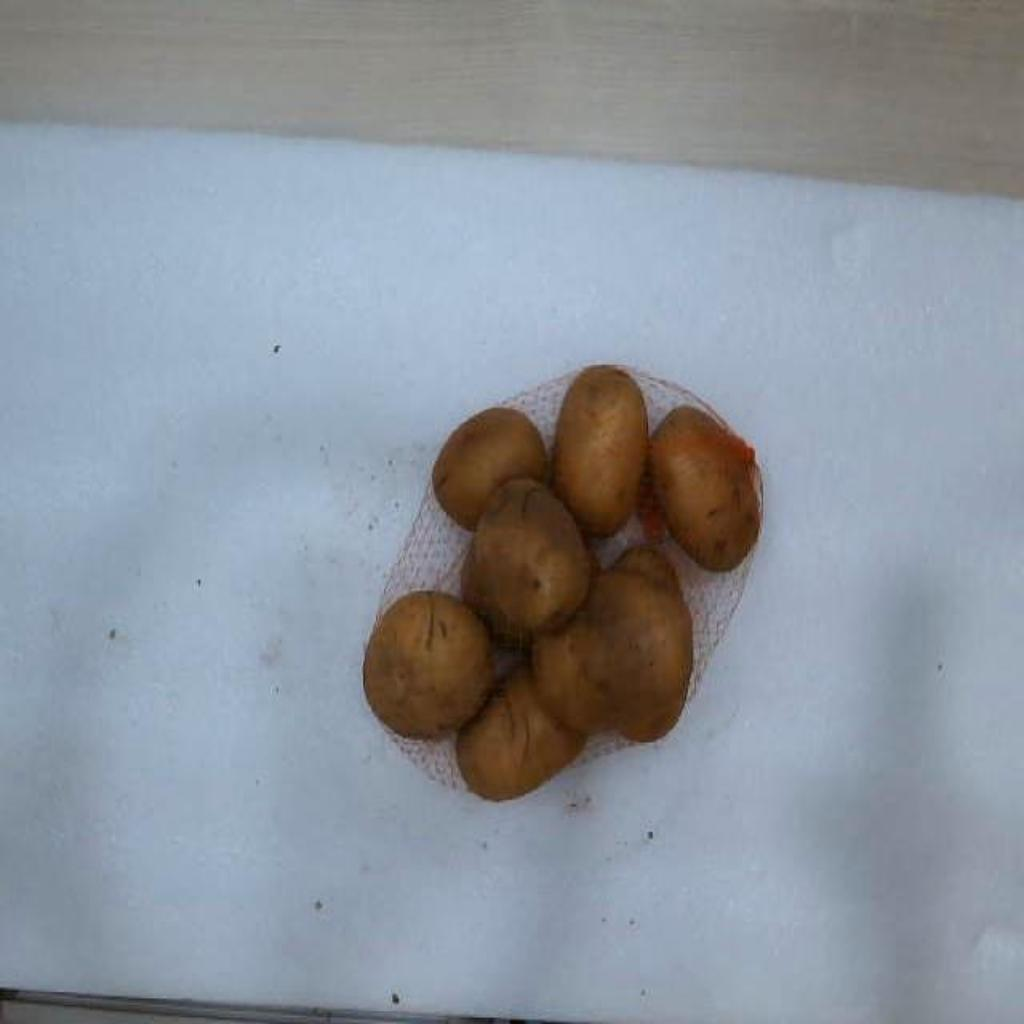potato: (532, 547, 692, 740), (462, 477, 592, 639), (584, 547, 692, 740), (364, 592, 494, 737), (650, 408, 760, 571), (456, 669, 586, 800), (554, 365, 648, 535), (432, 411, 548, 529)
